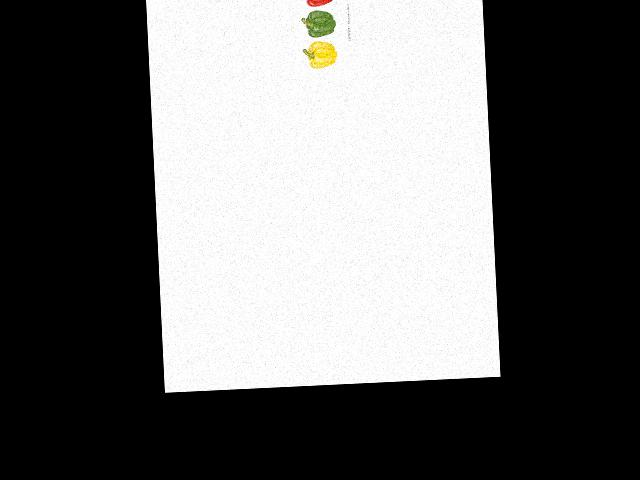bell_pepper: (303, 38, 340, 70)
